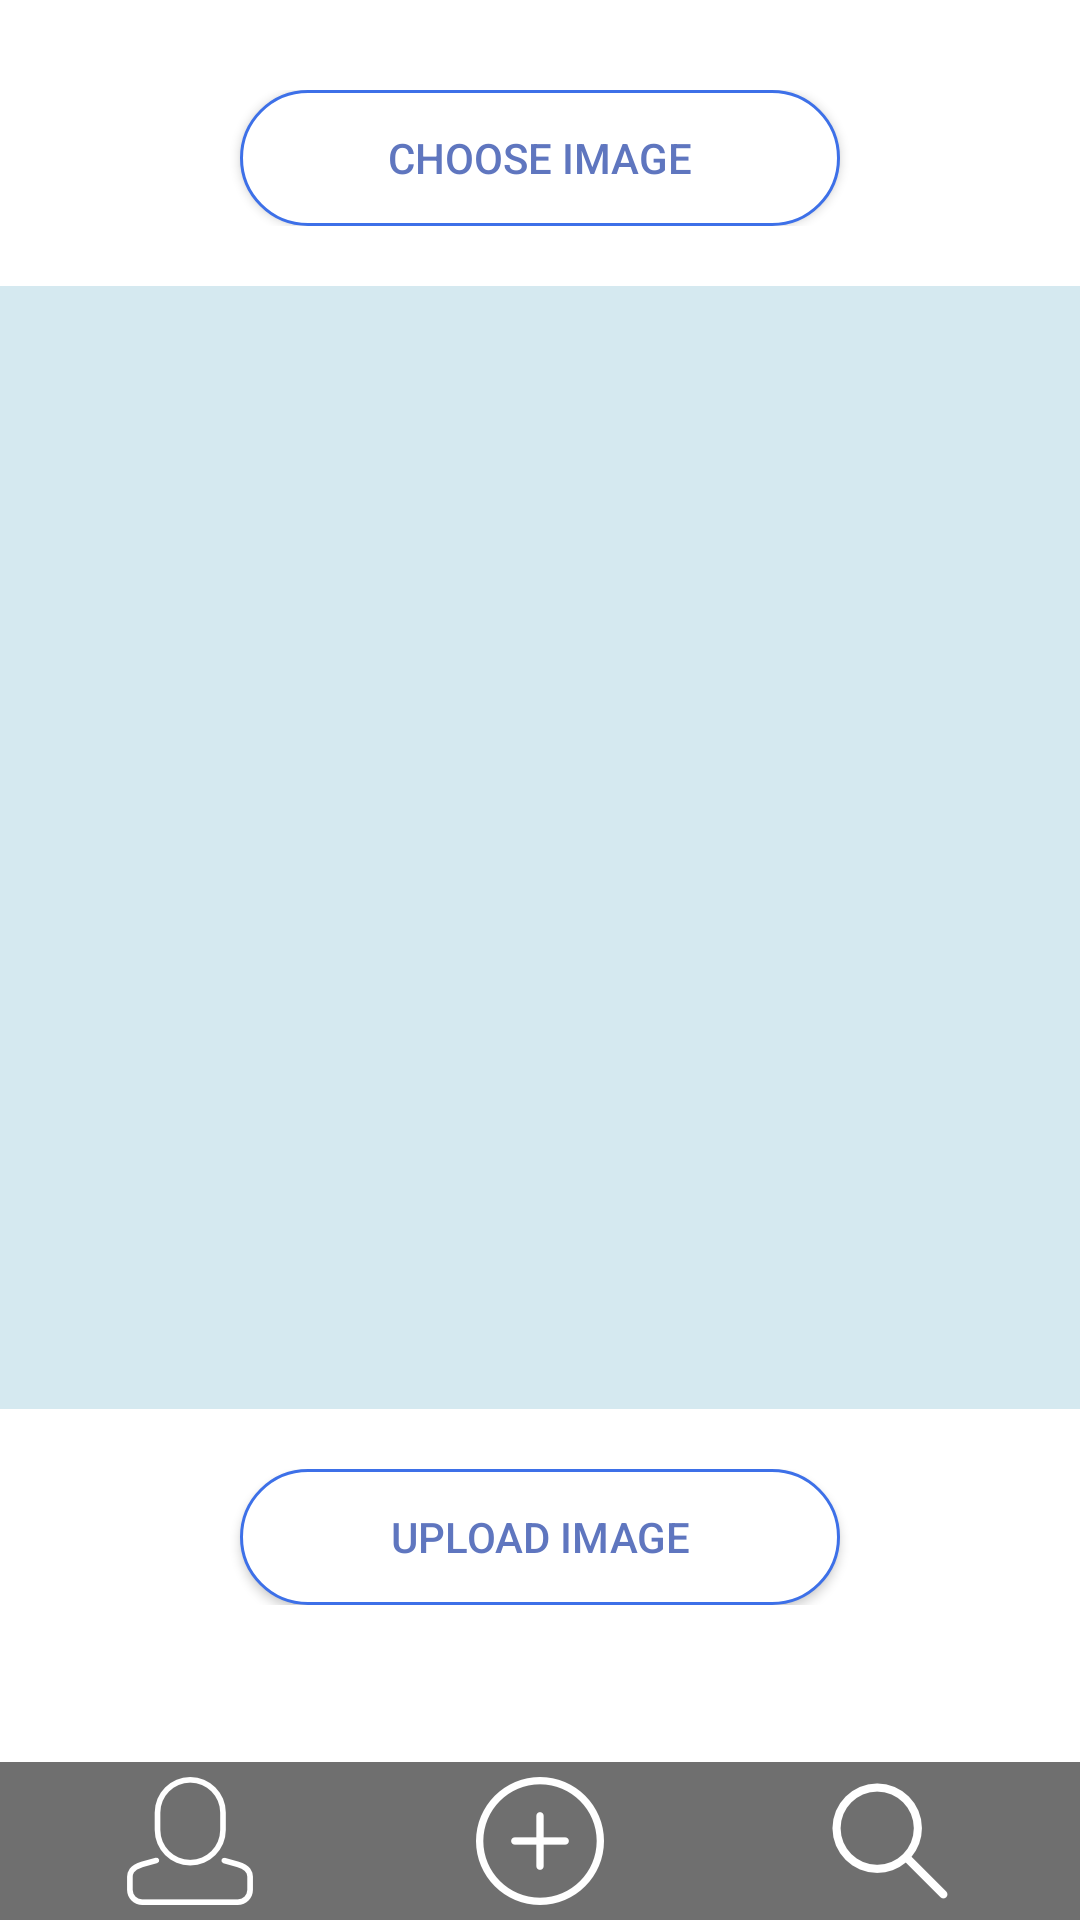

Icon click points for this 1080px×1920px phone screenshot, format (x=x, y=y):
plus: (x=540, y=1841)
search: (x=890, y=1841)
useravatar: (x=190, y=1841)
